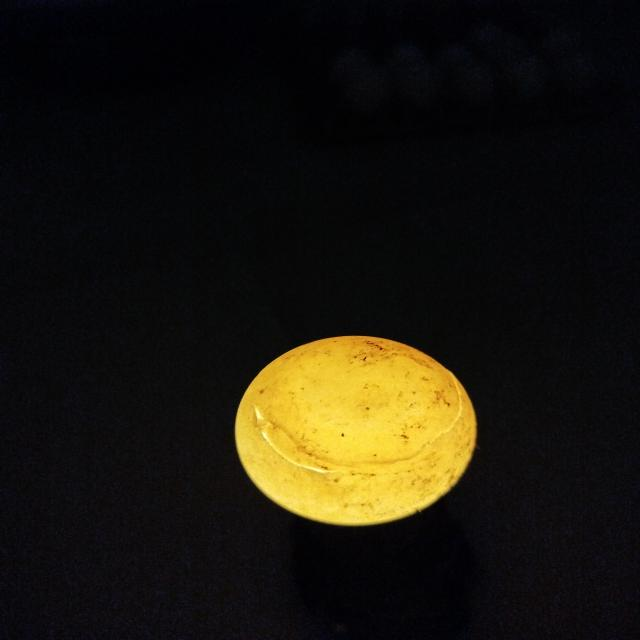Rachadura: (250, 369, 466, 477)
